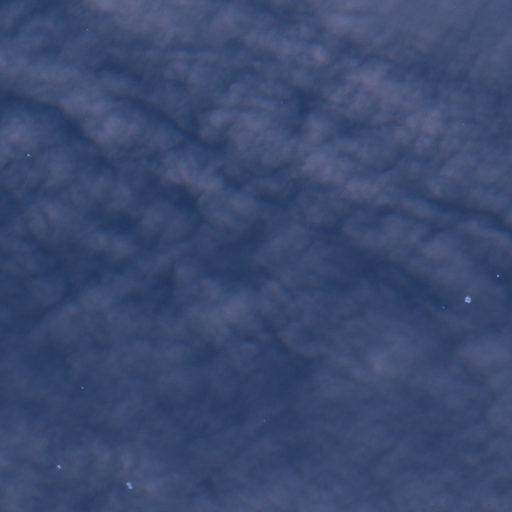Iceberg: (126, 482, 132, 488), (465, 296, 470, 302), (57, 464, 60, 468), (27, 154, 29, 156), (497, 274, 498, 277), (81, 387, 83, 388)
